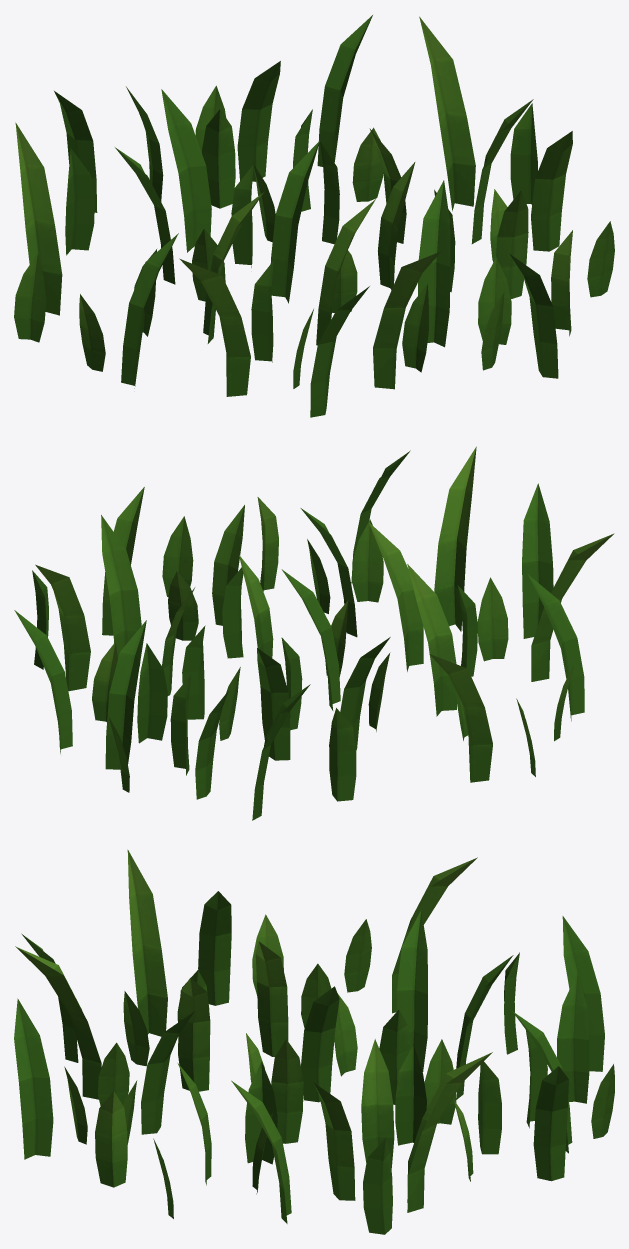
The model's file is GrassSmall1.fbx.
The picture shows the model from 3 angles, top to bottom: view 1: azimuth 30°, elevation 25°; view 2: azimuth 150°, elevation 25°; view 3: azimuth 270°, elevation 25°; orthographic projection. The views are drawn at different scales.
Parts seen in each view (by area): view 1: Grass.004; view 2: Grass.004; view 3: Grass.004.
Part boxes in pixels (box(x1,y1,x2,y2)): Grass.004: box(14, 15, 614, 417); Grass.004: box(14, 446, 614, 820); Grass.004: box(14, 849, 614, 1234).
Bounding box in the file's own units: 0.6957 × 0.2032 × 0.7087.
